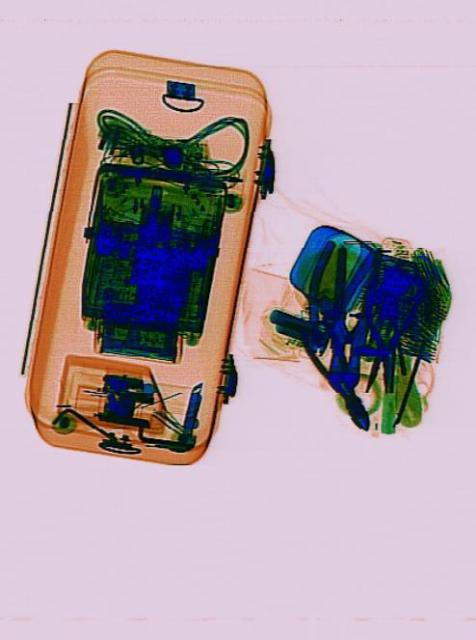Pliers: (295, 312, 380, 441), (317, 238, 380, 396), (351, 266, 422, 398)
